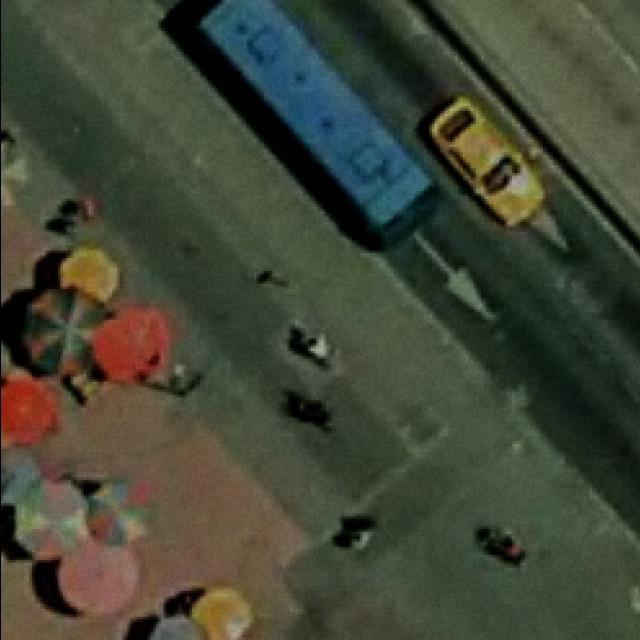vendedor_ambulante: (14, 284, 104, 379), (92, 304, 176, 388), (50, 542, 137, 622), (12, 473, 88, 563), (82, 476, 153, 550), (52, 246, 120, 306), (183, 586, 253, 640), (0, 379, 54, 448), (0, 447, 41, 506), (142, 614, 204, 640)
